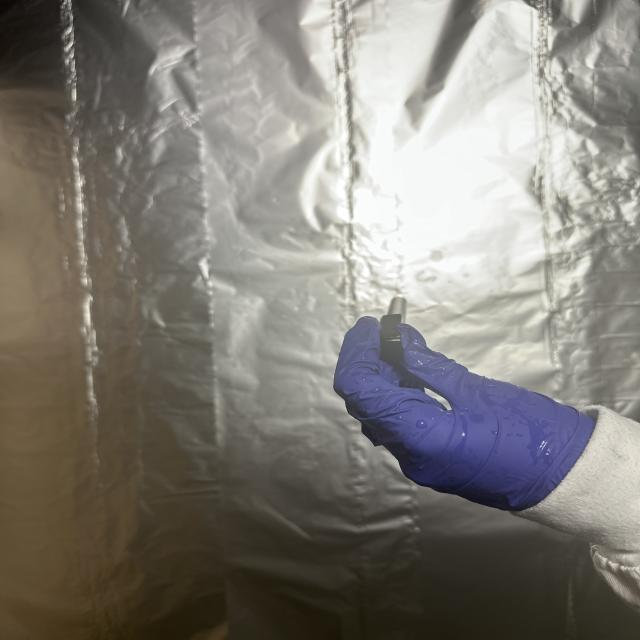gloves_contaminated: (334, 318, 595, 511)
